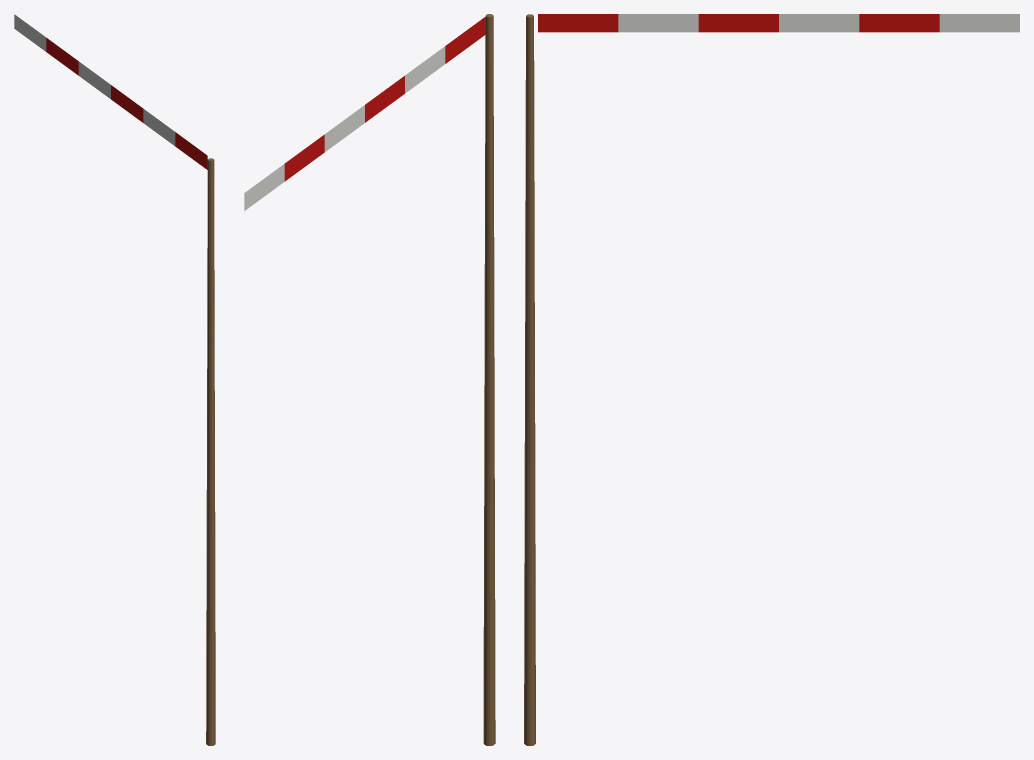
Rendered from streamer.glb.
The picture shows the model from 3 angles, left to right: view 1: azimuth 30°, elevation 25°; view 2: azimuth 150°, elevation 25°; view 3: azimuth 270°, elevation 25°; orthographic projection. The views are drawn at different scales.
Visible parts, largest first — view 1: Pole, Ribbon; view 2: Pole, Ribbon; view 3: Ribbon, Pole.
Part boxes in pixels (box(x1,y1,x2,y2)): Pole: box(206, 158, 215, 745); Ribbon: box(14, 14, 207, 169); Pole: box(483, 14, 495, 745); Ribbon: box(244, 17, 485, 210); Ribbon: box(538, 14, 1019, 32); Pole: box(524, 14, 535, 745).
Size of the model in its own units: 0.026 by 2 by 1.24.
